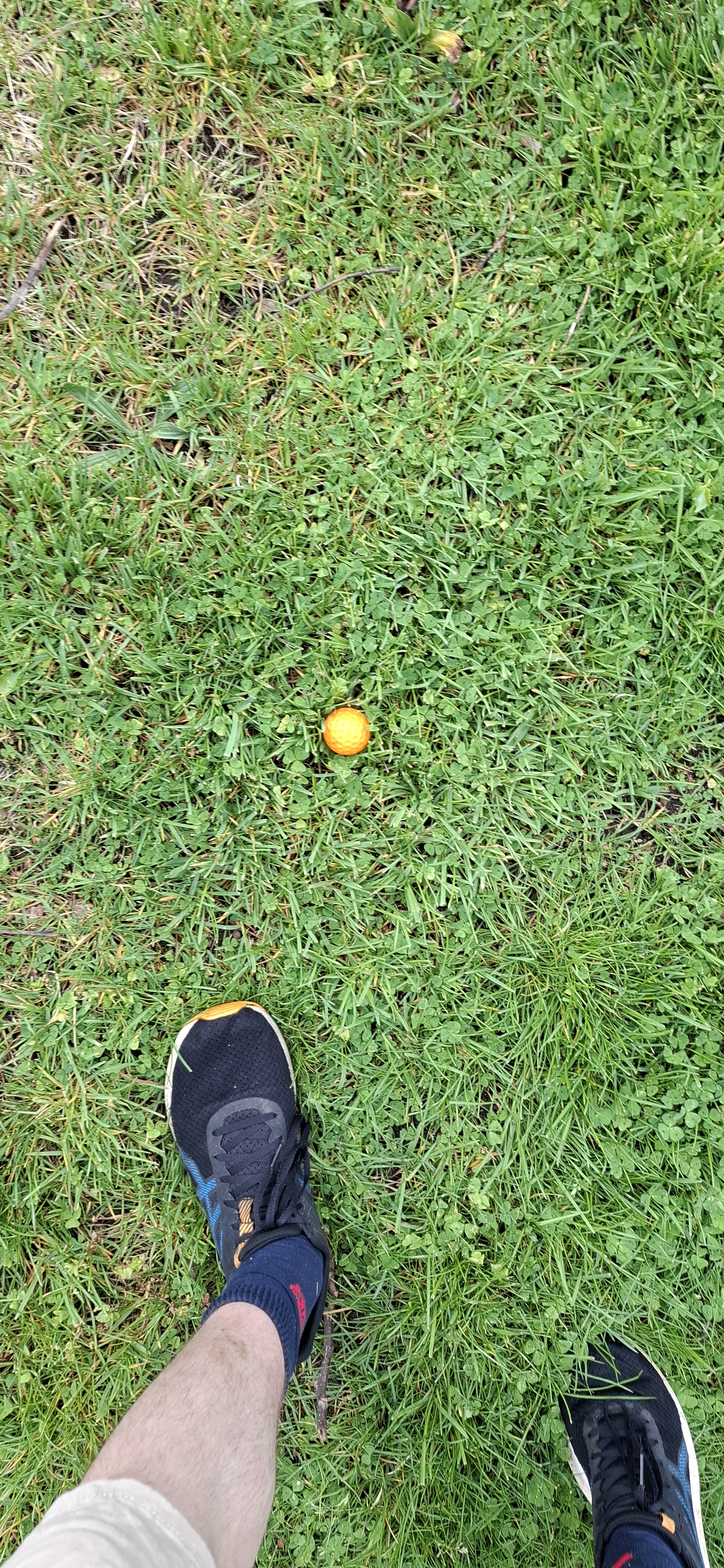ball: (326, 765, 349, 867)
